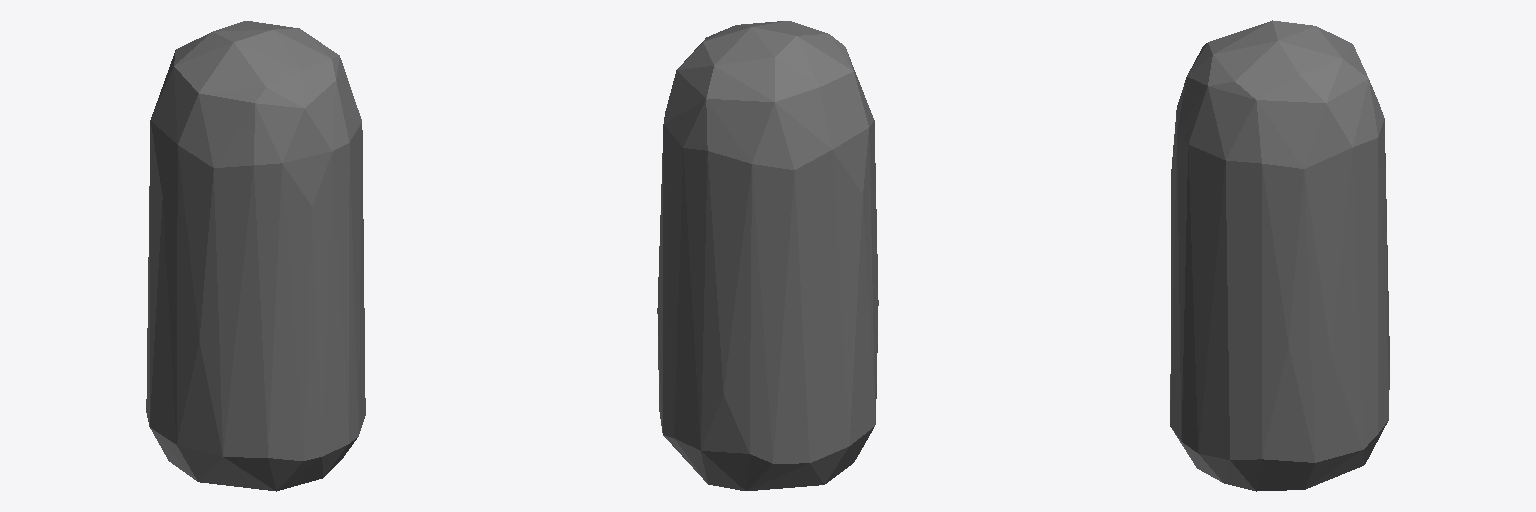
The robot description file, URDF, robot "can_017":
<?xml version="1.0" ?>
<robot name="can_017">
  <material name="color">
    <color rgba=".5 .5 .5 1"/>
  </material>

  <link name="base_link">
    <contact>
      <lateral_friction value="1.0"/>
      <rolling_friction value="0.001"/>
      <spinning_friction value="0.001"/>
      <inertia_scaling value="1.0"/>
    </contact>
    <inertial>
      <origin rpy="0 0 0" xyz="-0.000449231 3.5537e-05 0.00927659"/>
       <mass value="0.1"/>
       <inertia ixx="1" ixy="0" ixz="0" iyy="1" iyz="0" izz="1"/>
    </inertial>

    <visual>
      <origin rpy="0 0 0" xyz="0 0 0"/>
      <geometry>
        <mesh filename="can_017_vhacd_0_of_1.obj" scale="1 1 1"/>
      </geometry>
      <material name="color"/>
    </visual>

    <collision>
      <origin rpy="0 0 0" xyz="0 0 0"/>
      <geometry>
        <mesh filename="can_017_vhacd_0_of_1.obj" scale="1 1 1"/>
      </geometry>
    </collision>

  </link>
</robot>

--- Render facts (derived) ---
Views: 3 orthographic renders of the robot side by side, from view 1: azimuth 30°, elevation 25°; view 2: azimuth 150°, elevation 25°; view 3: azimuth 270°, elevation 25°.
Model can_017 with 1 links and 0 joints (none), rooted at base_link, posed every joint at zero.
Visible links, largest first — view 1: base_link; view 2: base_link; view 3: base_link.
Link boxes in pixels (left/top/right/bottom): base_link: left=146, top=21, right=365, bottom=491; base_link: left=657, top=21, right=878, bottom=490; base_link: left=1170, top=20, right=1389, bottom=491.
Size in the robot's own frame: 0.0899 by 0.0904 by 0.193 metres.
Meshes: 1 distinct files referenced, 1 mesh visuals loaded (1 OBJ).